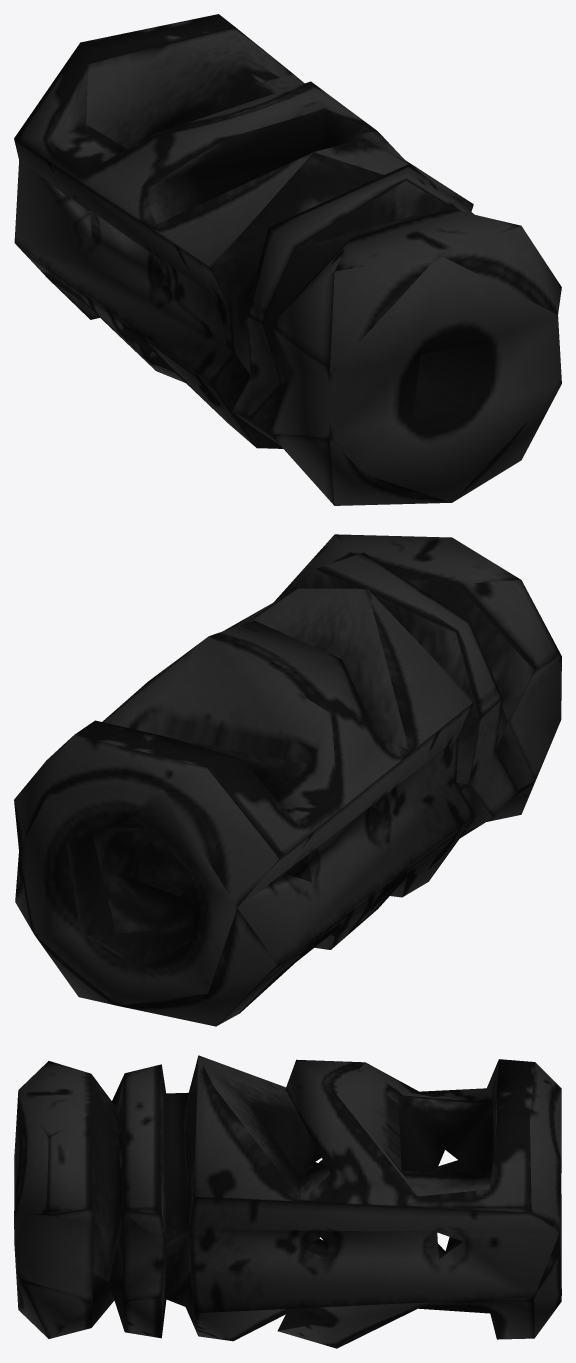
Rendered from Compensator.fbx.
The picture shows the model from 3 angles, top to bottom: view 1: azimuth 30°, elevation 25°; view 2: azimuth 150°, elevation 25°; view 3: azimuth 270°, elevation 25°; orthographic projection. The views are drawn at different scales.
Parts seen in each view (by area): view 1: Compensator; view 2: Compensator; view 3: Compensator.
Part boxes in pixels (x1,y1,x2,y2): Compensator: [14, 14, 561, 505]; Compensator: [14, 534, 561, 1026]; Compensator: [14, 1055, 561, 1348].
Size of the model in its own units: 0.0211 by 0.0236 by 0.0439.
